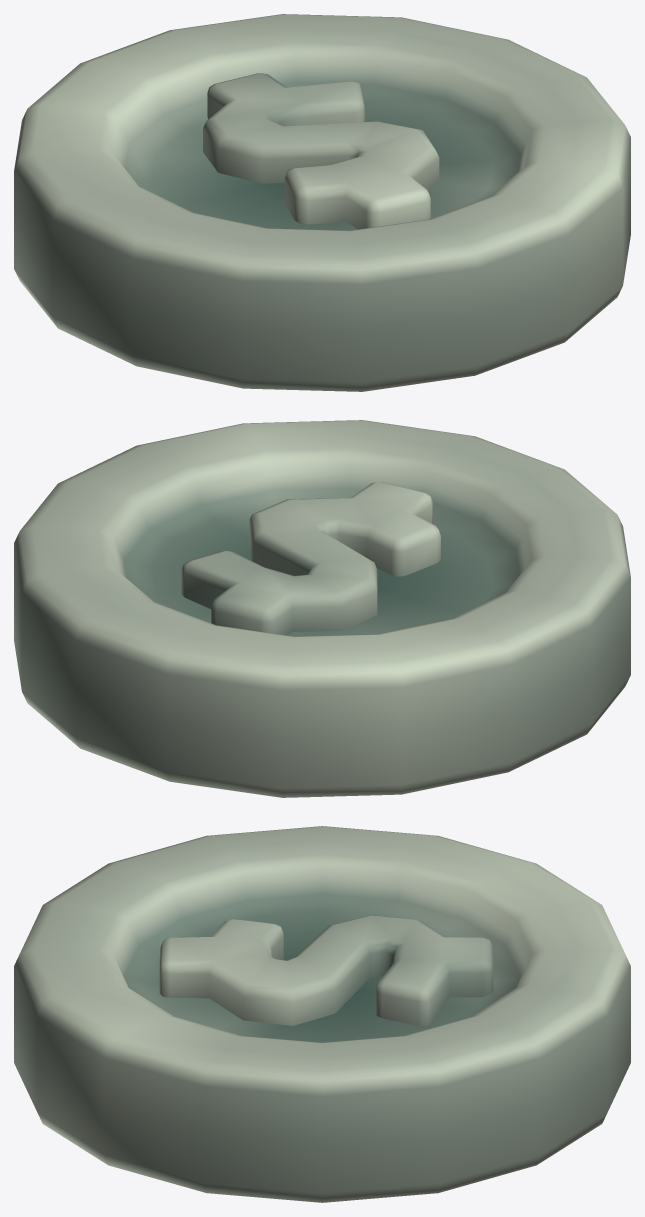
File: SM_coin_002_silver.fbx
The picture shows the model from 3 angles, top to bottom: view 1: azimuth 30°, elevation 25°; view 2: azimuth 150°, elevation 25°; view 3: azimuth 270°, elevation 25°; orthographic projection.
Visible parts, largest first — view 1: SM_coin_002_silver; view 2: SM_coin_002_silver; view 3: SM_coin_002_silver.
Boxes of the visible parts, <box> form: SM_coin_002_silver: <box>14,14,630,391</box>; SM_coin_002_silver: <box>14,420,630,797</box>; SM_coin_002_silver: <box>14,826,630,1202</box>.
Bounding box in the file's own units: 50 × 11.7 × 50.
